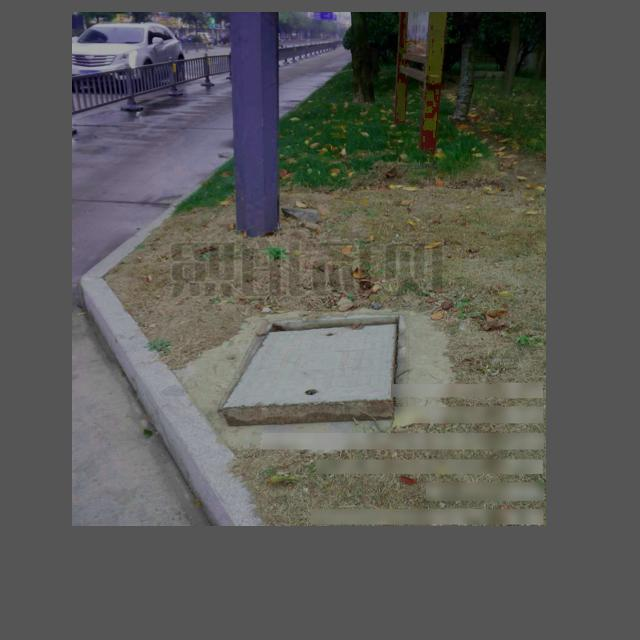uncovered: (220, 312, 405, 428)
